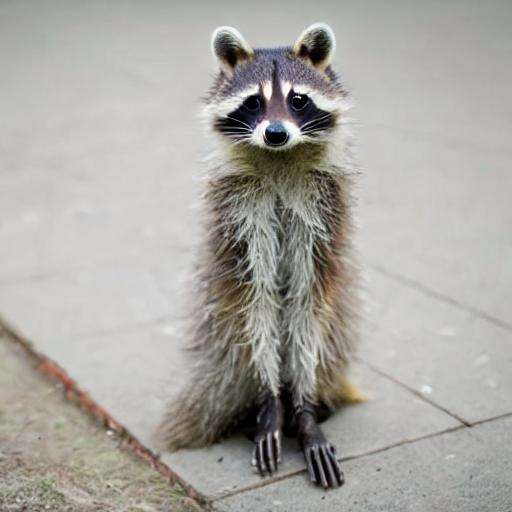raccoon: (142, 23, 378, 453)
